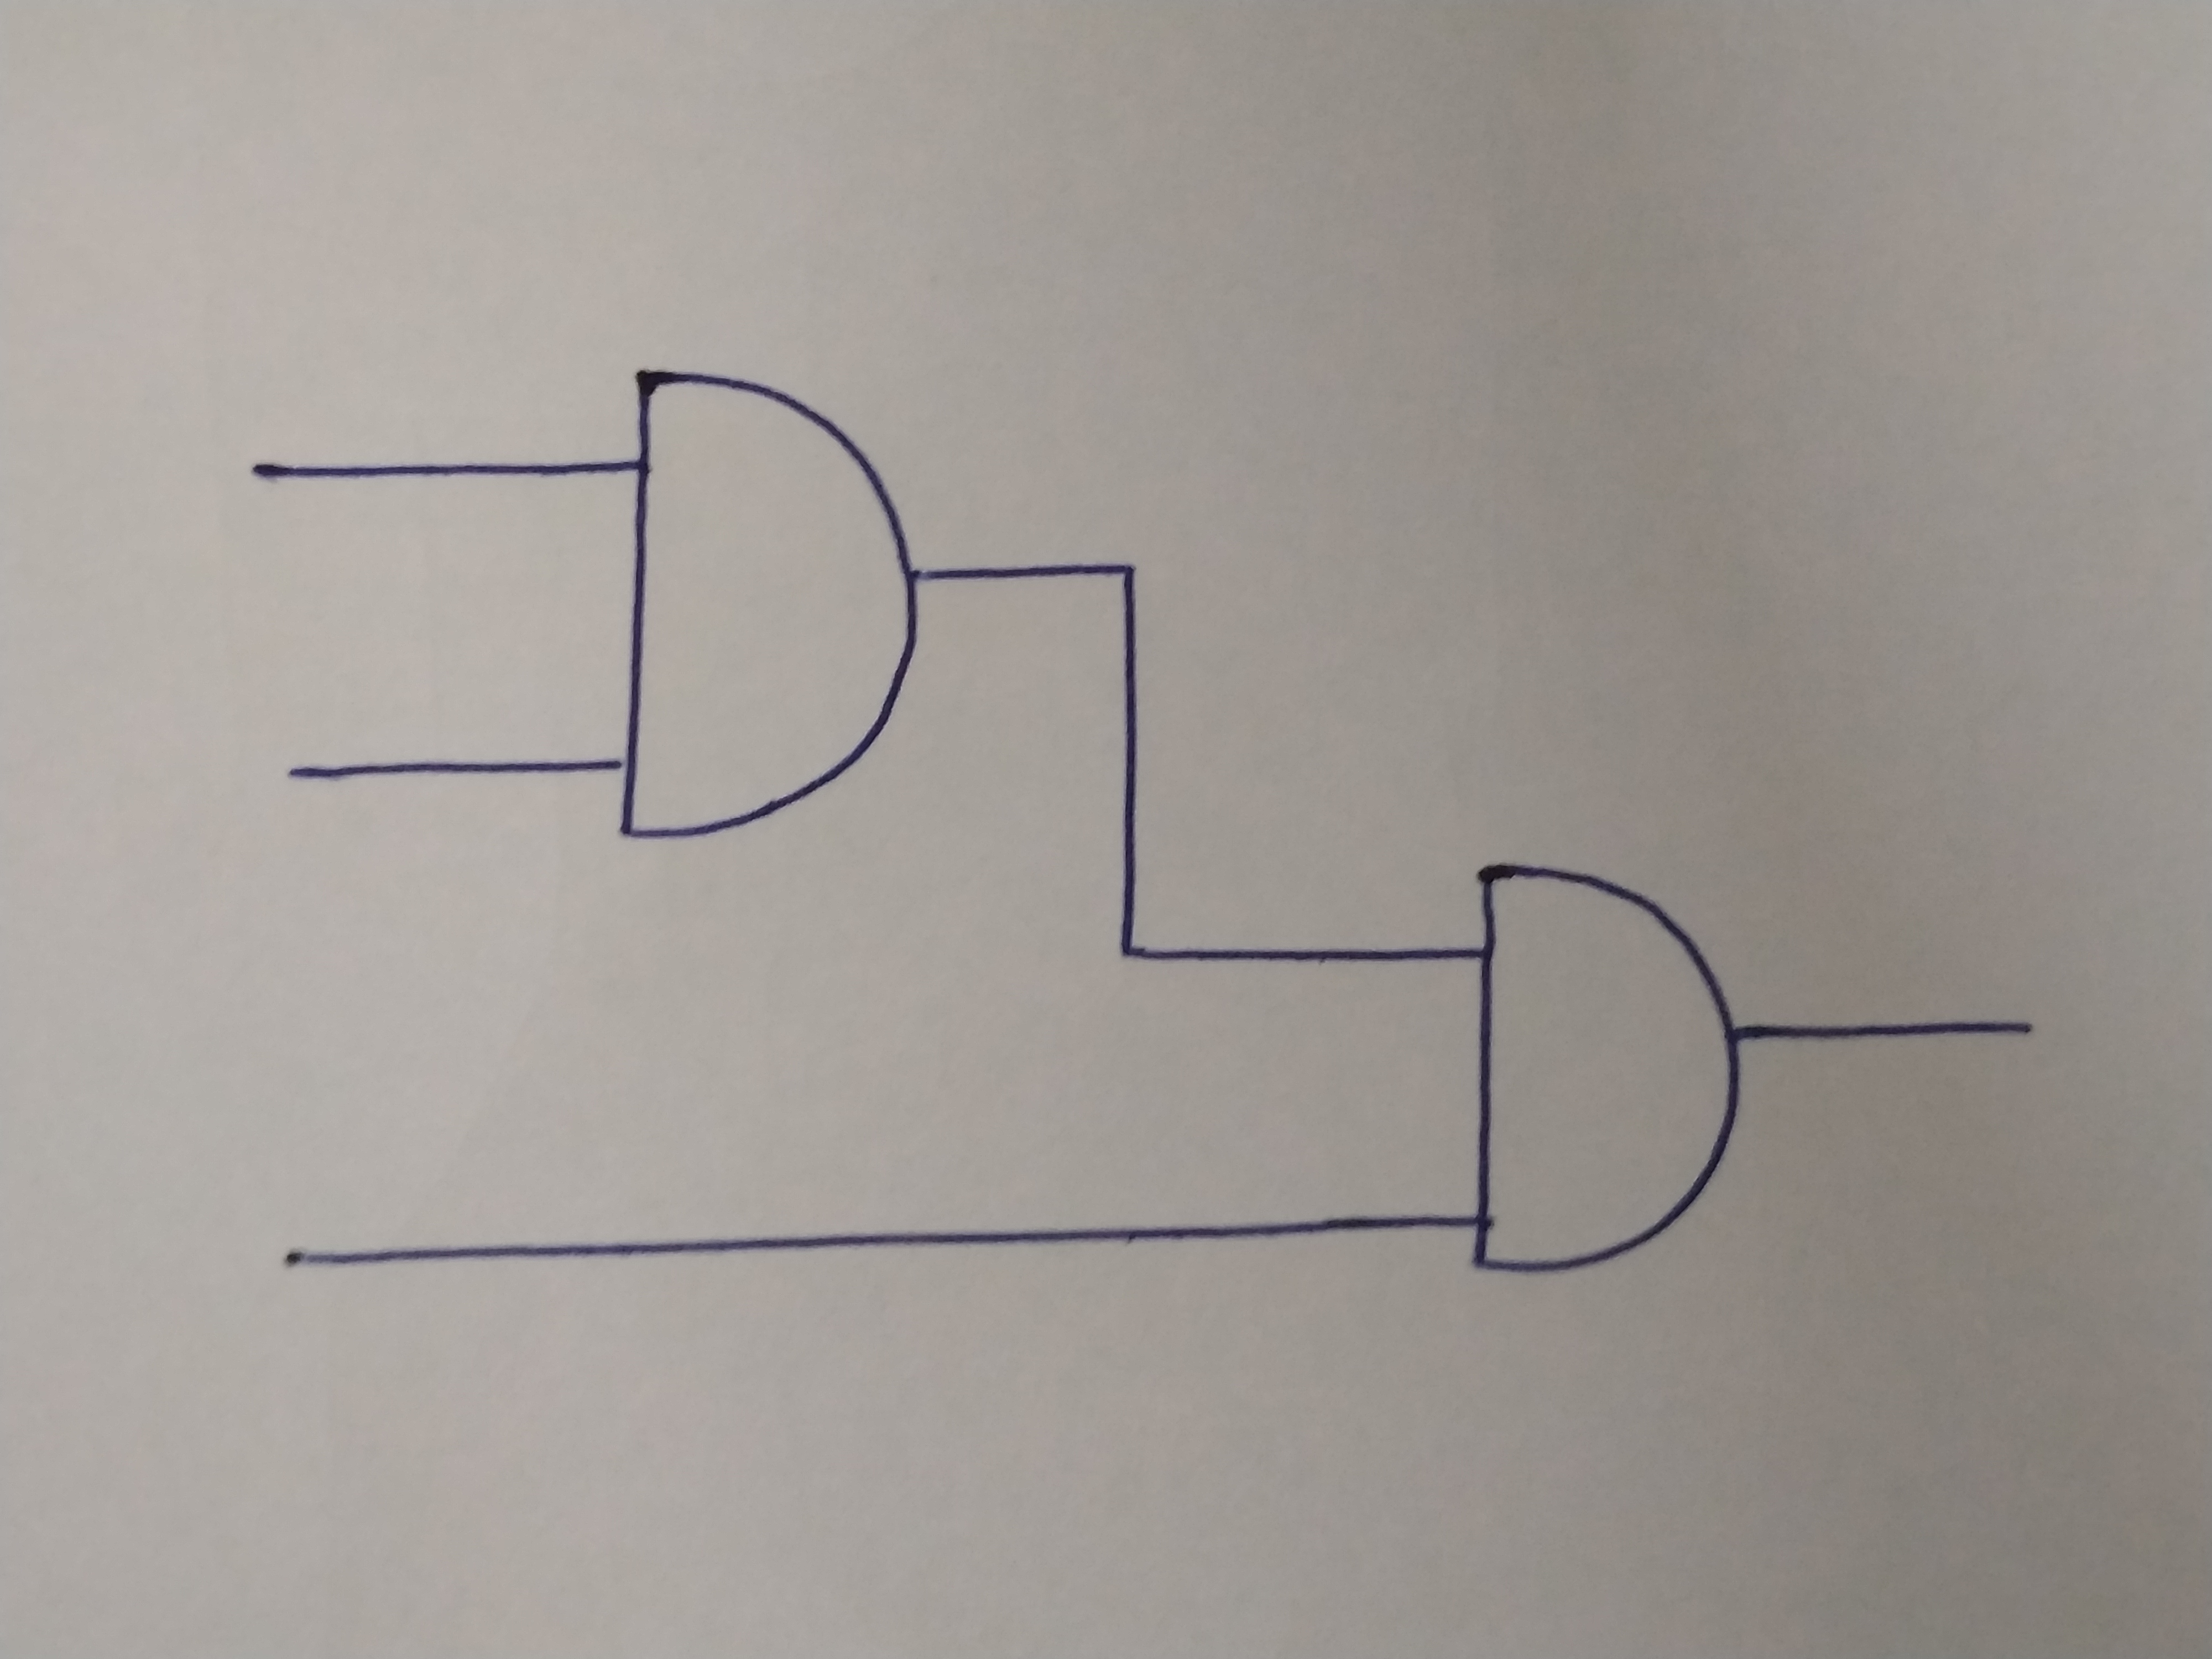and: (629, 369, 902, 842), (1461, 856, 1743, 1281)
